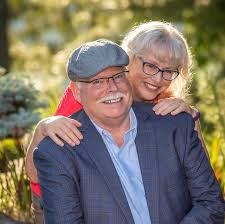no_mask: (70, 57, 134, 124), (137, 35, 178, 100)
